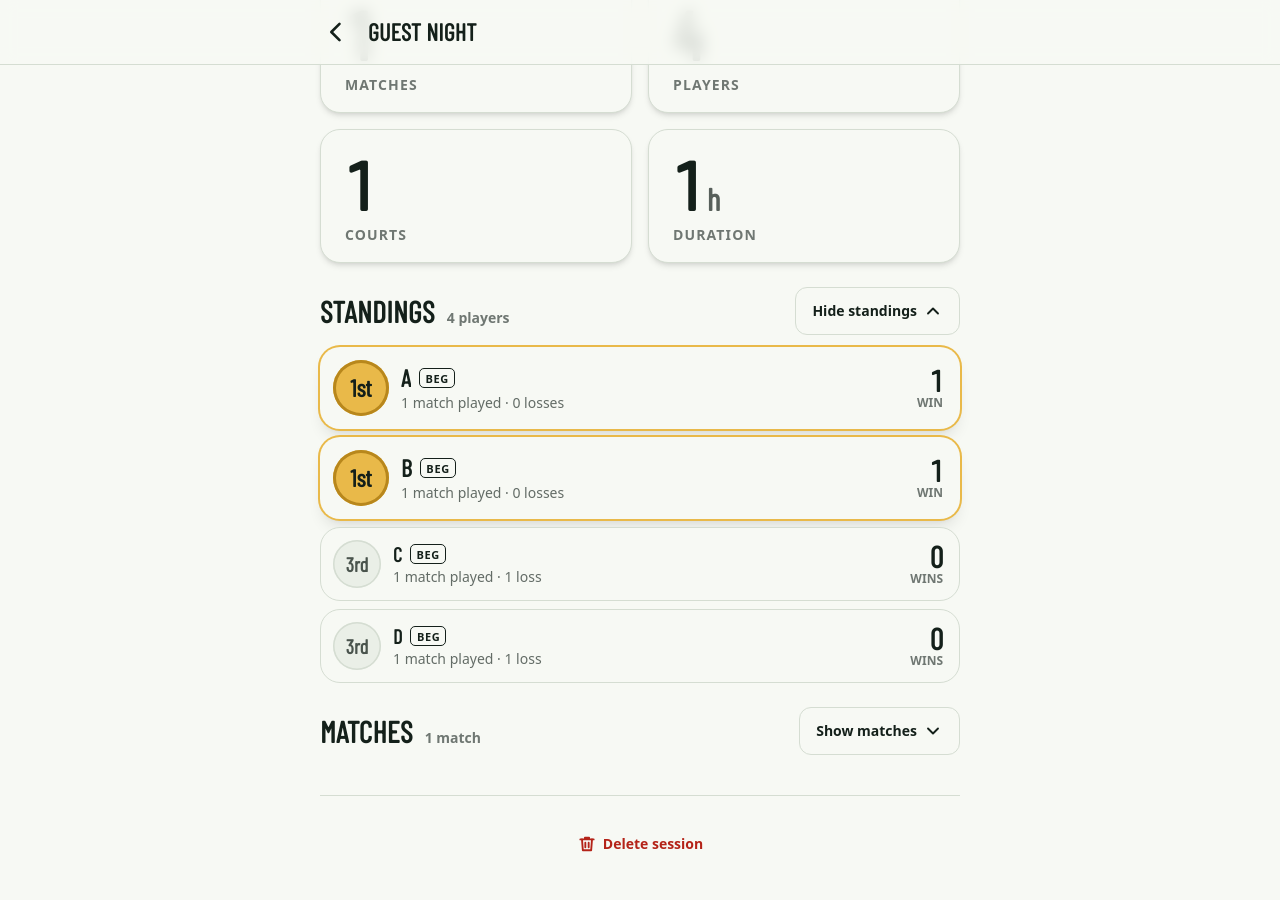
Test: Delete session: no Club or a Local club › deletes it and goes back to the plain list, in place of the details
The image size is (1280, 900).
(page scrolled)
Click the button "Delete session" at [640, 844], box x1=320 y1=820 x2=960 y2=868
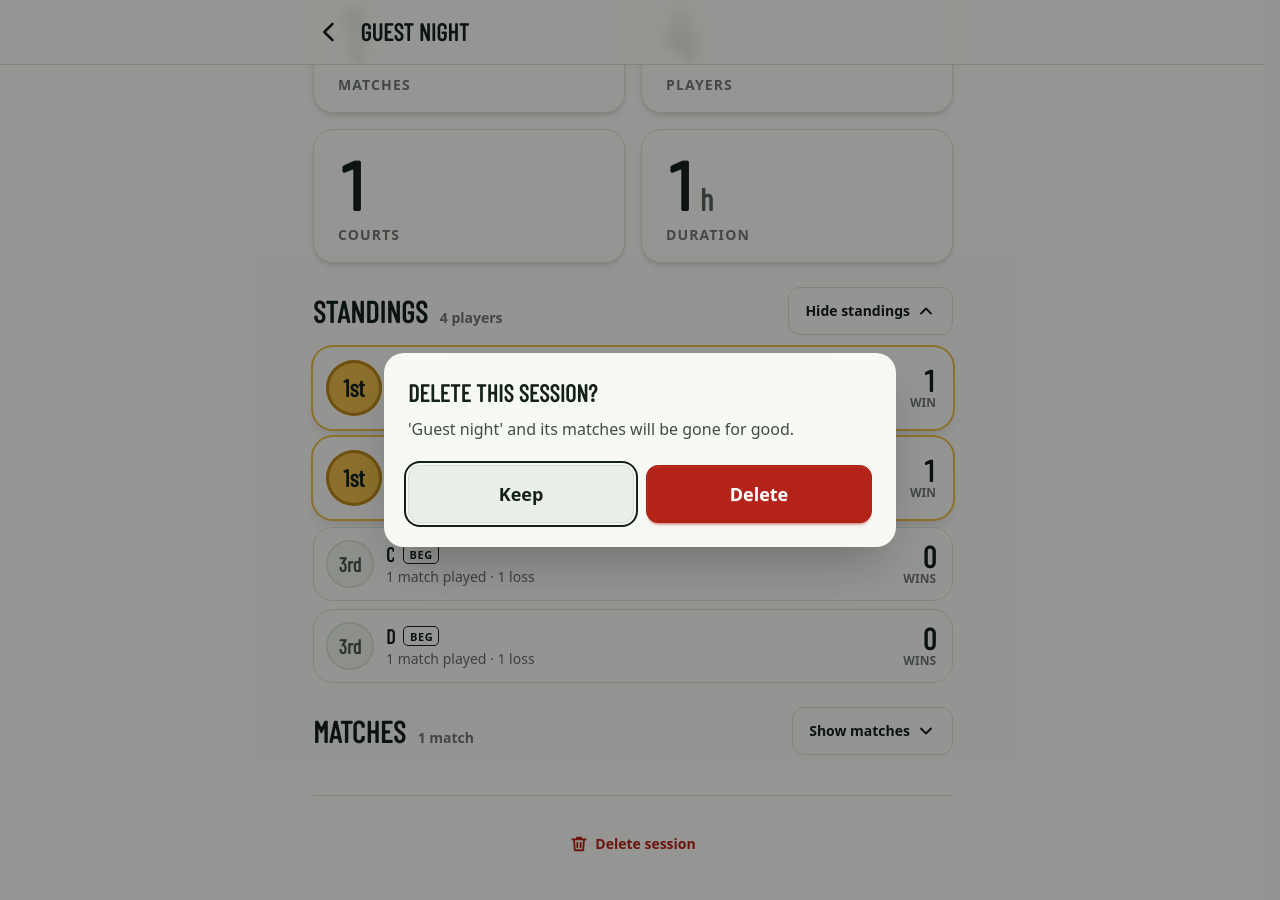
Click the button "Delete" at [759, 494], box x1=646 y1=465 x2=872 y2=523
(page scrolled)
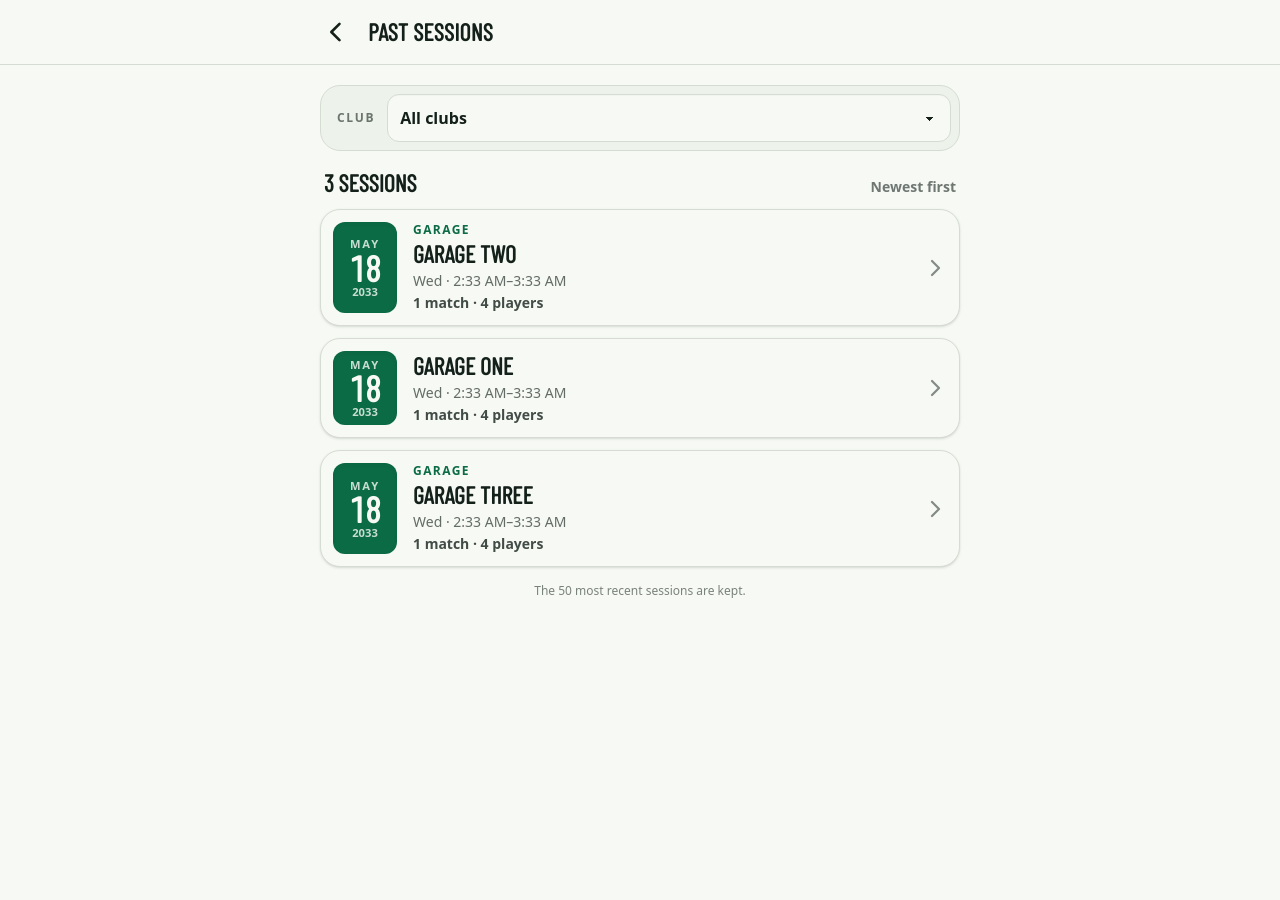
Check: the heading "Past sessions" is shown, box x1=368 y1=17 x2=493 y2=46
Check: the heading "Guest night" is gone
